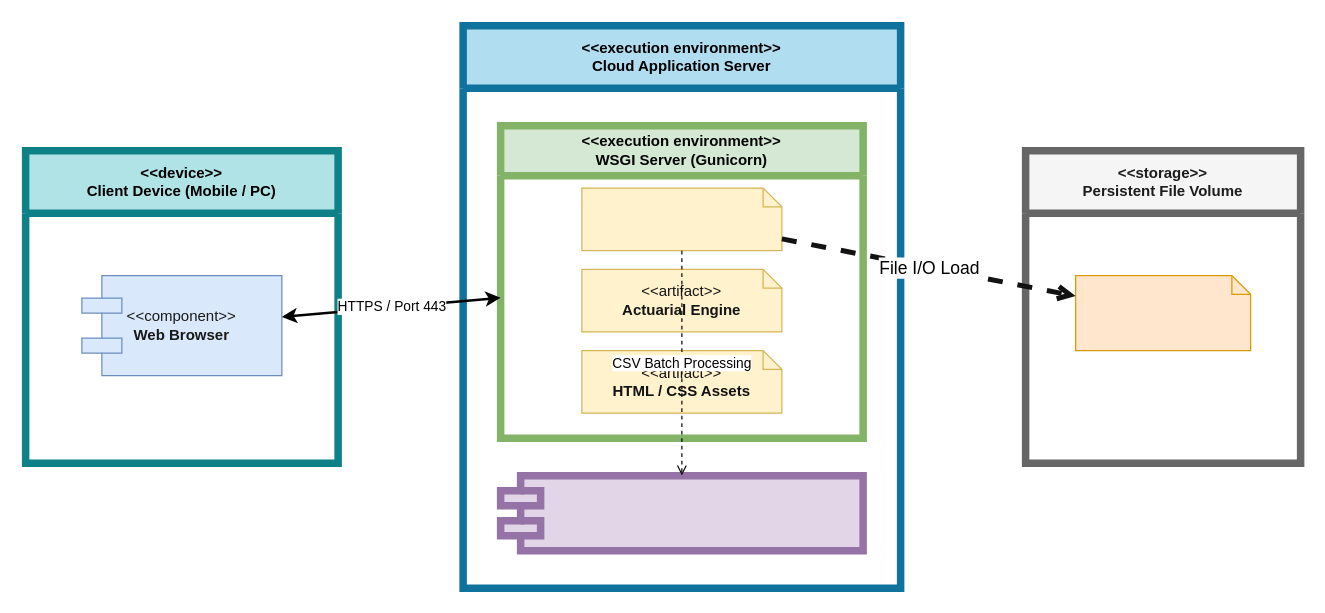
The diagram is 1325 pixels wide and 613 high, and some of its shapes have lost their labels. The centre of each missing label's shape, as x and y in pixels:
"<<artifact>> app.py (Flask)" belongs at (681,219).
"<<artifact>> rf_tuned.pkl" belongs at (1162,312).
"<<component>> Pandas DataFrame Engine" belongs at (681,512).
